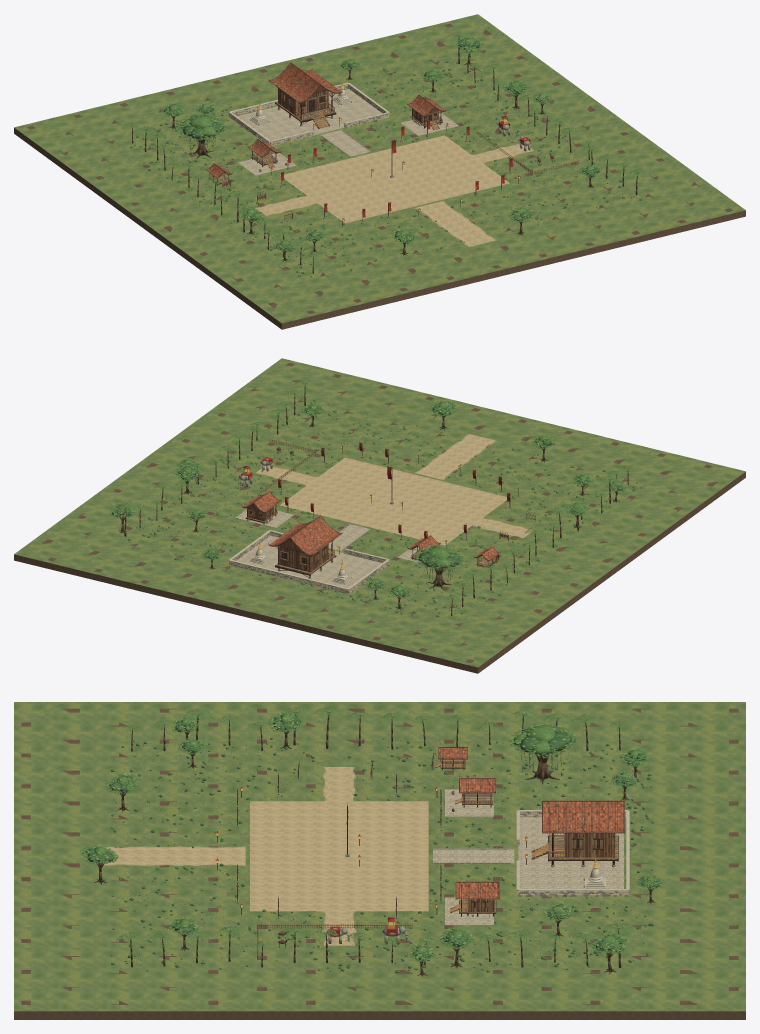
The model's file is guild-hall.glb.
3 views of the same model, one above another, from view 1: azimuth 30°, elevation 25°; view 2: azimuth 150°, elevation 25°; view 3: azimuth 270°, elevation 25° (orthographic). The views are drawn at different scales.
Parts seen in each view (by area): view 1: Ground - varied meadow | grass, Courtyard paving | path, Soil foundation | earth, Courtyard paving | paving, Tracks - worn earth | path, Fine outer tree leaves | leaf2, Palm feather leaflets | leaf2, Roof / overlapping clay tiles | roof, Organic tree foliage | leaf, Organic understory shrubs | leaf4, Fine outer tree leaves | leaf4, Organic understory shrubs | leaf (+7 smaller); view 2: Ground - varied meadow | grass, Courtyard paving | path, Soil foundation | earth, Courtyard paving | paving, Tracks - worn earth | path, Fine outer tree leaves | leaf2, Palm feather leaflets | leaf2, Roof / overlapping clay tiles | roof, Organic understory shrubs | leaf2, Organic tree foliage | leaf, Fine outer tree leaves | leaf4, Curved palm trunks | trunk (+10 smaller); view 3: Ground - varied meadow | grass, Courtyard paving | path, Soil foundation | earth, Courtyard paving | paving, Tracks - worn earth | path, Fine outer tree leaves | leaf2, Palm feather leaflets | leaf2, Roof / overlapping clay tiles | roof, Organic understory shrubs | leaf, Organic tree foliage | leaf, Fine outer tree leaves | leaf4, Palm feather leaflets | leaf4 (+23 smaller).
Part boxes in pixels (x1=…): Ground - varied meadow | grass: x1=14, y1=14, x2=745, y2=323; Courtyard paving | path: x1=280, y1=135, x2=509, y2=223; Soil foundation | earth: x1=14, y1=23, x2=745, y2=329; Courtyard paving | paving: x1=237, y1=89, x2=458, y2=175; Tracks - worn earth | path: x1=257, y1=144, x2=532, y2=246; Fine outer tree leaves | leaf2: x1=162, y1=36, x2=601, y2=251; Palm feather leaflets | leaf2: x1=123, y1=32, x2=647, y2=261; Roof / overlapping clay tiles | roof: x1=207, y1=64, x2=444, y2=176; Organic tree foliage | leaf: x1=164, y1=38, x2=599, y2=250; Organic understory shrubs | leaf4: x1=129, y1=60, x2=640, y2=277; Fine outer tree leaves | leaf4: x1=161, y1=37, x2=600, y2=251; Organic understory shrubs | leaf: x1=131, y1=59, x2=641, y2=277; Ground - varied meadow | grass: x1=14, y1=358, x2=745, y2=667; Courtyard paving | path: x1=280, y1=457, x2=506, y2=545; Soil foundation | earth: x1=14, y1=362, x2=745, y2=673; Courtyard paving | paving: x1=235, y1=509, x2=421, y2=587; Tracks - worn earth | path: x1=257, y1=434, x2=532, y2=537; Fine outer tree leaves | leaf2: x1=110, y1=401, x2=625, y2=597; Palm feather leaflets | leaf2: x1=114, y1=380, x2=636, y2=603; Roof / overlapping clay tiles | roof: x1=243, y1=492, x2=498, y2=560; Organic understory shrubs | leaf2: x1=125, y1=400, x2=641, y2=617; Organic tree foliage | leaf: x1=112, y1=402, x2=623, y2=596; Fine outer tree leaves | leaf4: x1=109, y1=401, x2=625, y2=596; Curved palm trunks | trunk: x1=124, y1=383, x2=628, y2=615; Ground - varied meadow | grass: x1=14, y1=702, x2=745, y2=1011; Courtyard paving | path: x1=250, y1=801, x2=428, y2=911; Soil foundation | earth: x1=14, y1=708, x2=745, y2=1019; Courtyard paving | paving: x1=445, y1=789, x2=623, y2=925; Tracks - worn earth | path: x1=103, y1=767, x2=352, y2=945; Fine outer tree leaves | leaf2: x1=83, y1=712, x2=664, y2=961; Palm feather leaflets | leaf2: x1=116, y1=707, x2=634, y2=951; Roof / overlapping clay tiles | roof: x1=439, y1=747, x2=623, y2=898; Organic understory shrubs | leaf: x1=110, y1=738, x2=653, y2=972; Organic tree foliage | leaf: x1=85, y1=715, x2=660, y2=960; Fine outer tree leaves | leaf4: x1=81, y1=712, x2=663, y2=961; Palm feather leaflets | leaf4: x1=117, y1=707, x2=634, y2=949.
Bounding box in the file's own units: 180 × 18.56 × 180.
38 materials, 38 textured.
